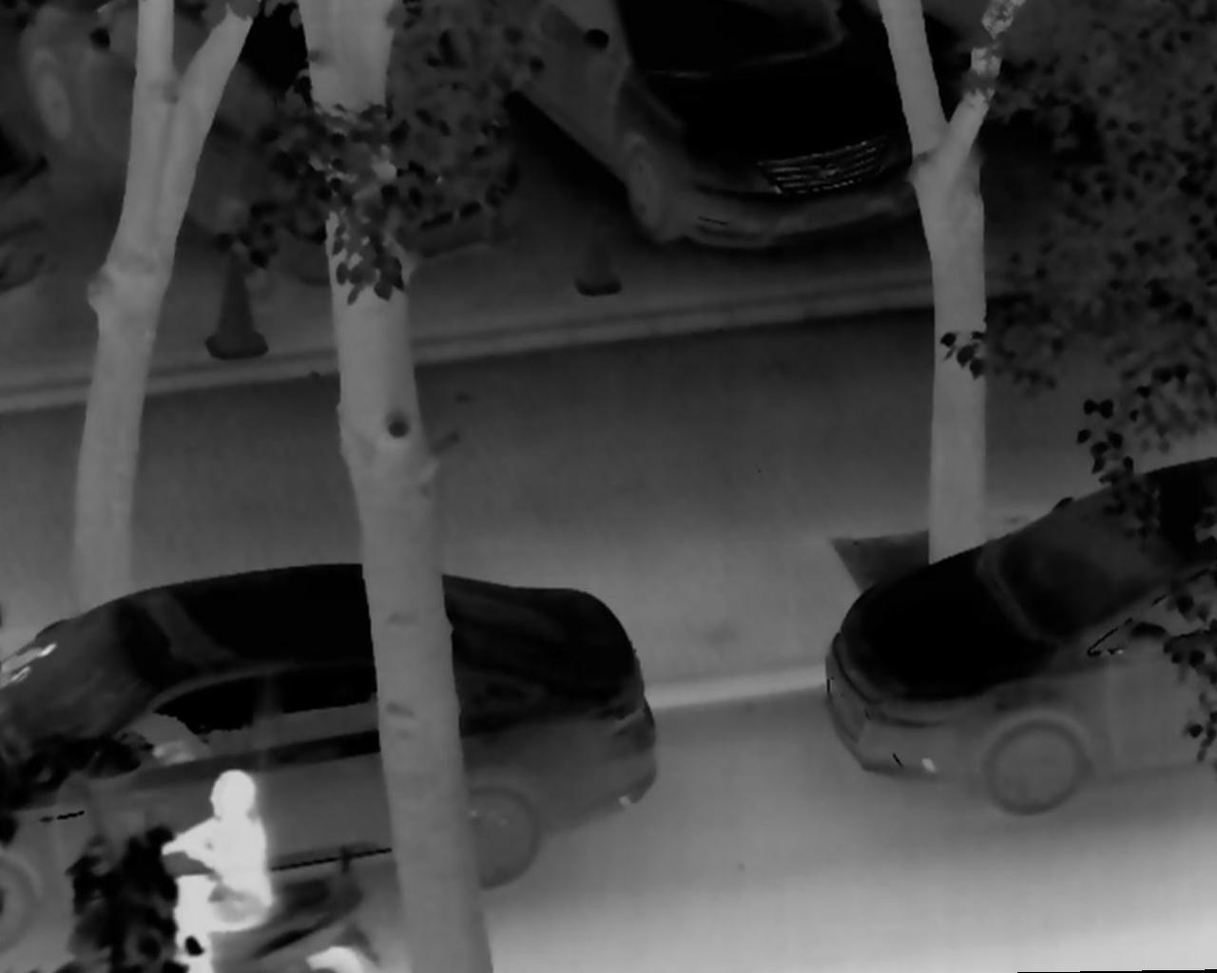person: (140, 772, 277, 973)
